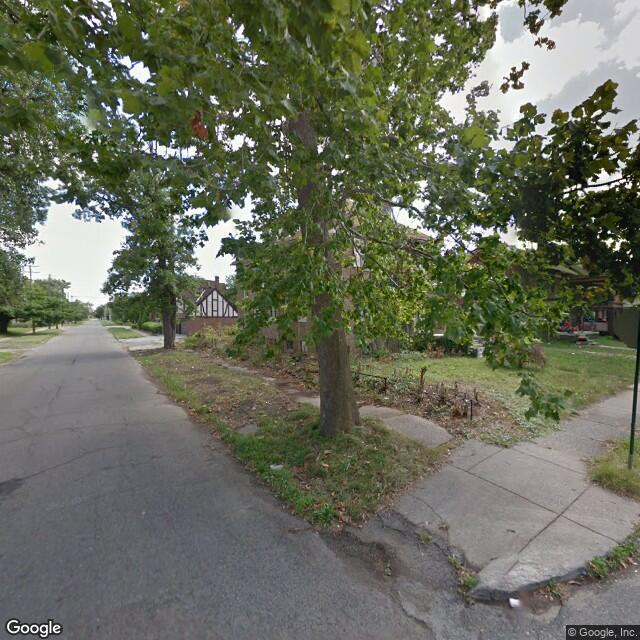litter: (619, 555, 638, 573), (504, 598, 523, 608), (266, 462, 285, 471)
